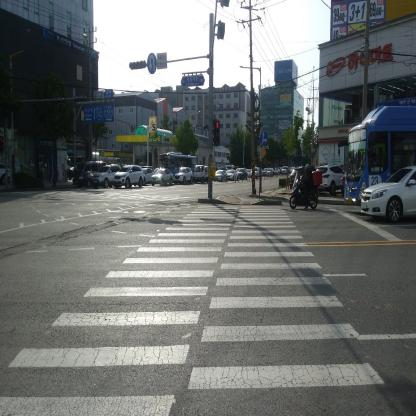Red: (213, 120, 220, 146)
